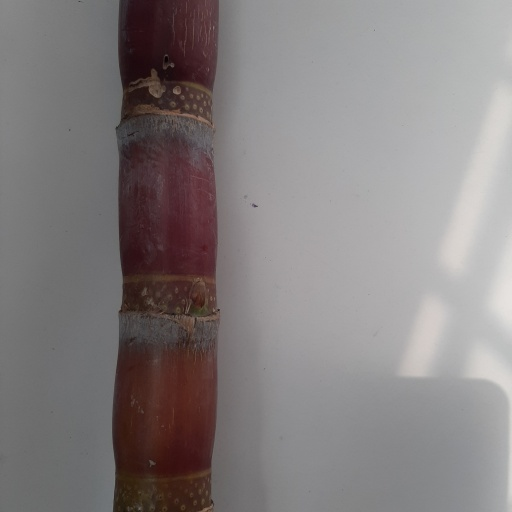Bud: (187, 278, 211, 310)
